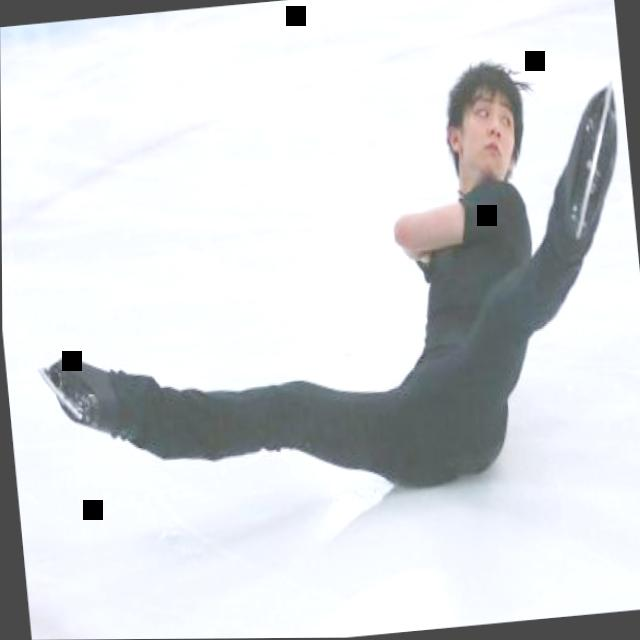Fall-Detected: (0, 17, 640, 571)
